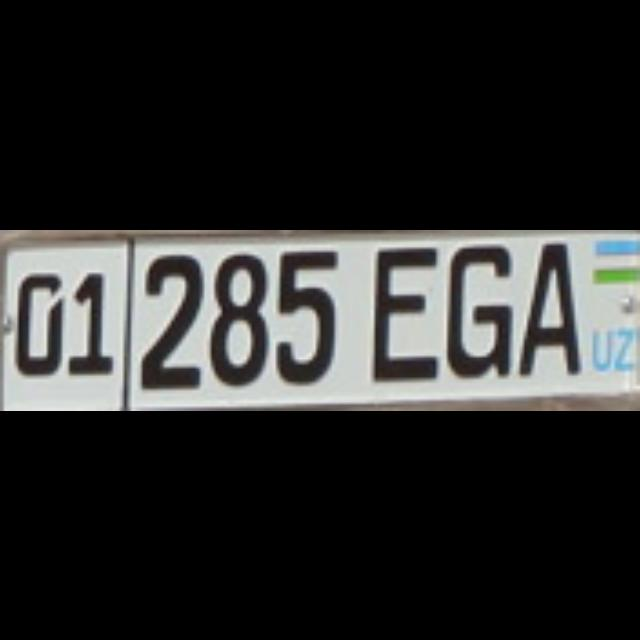0: (11, 269, 62, 371)
1: (62, 265, 106, 367)
2: (134, 246, 196, 382)
5: (269, 244, 331, 378)
8: (204, 246, 266, 382)
A: (513, 236, 575, 372)
E: (363, 240, 432, 378)
G: (440, 236, 506, 372)
